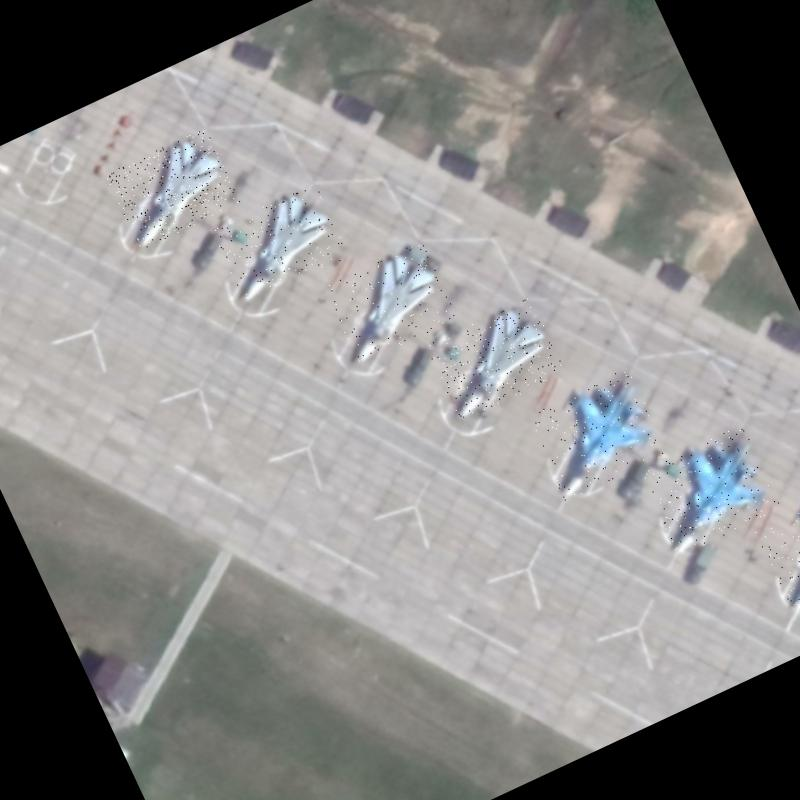A19: (525, 366, 669, 501), (637, 424, 781, 557), (755, 483, 800, 615)
A20: (425, 296, 566, 422), (321, 240, 458, 366), (104, 126, 242, 250), (210, 182, 349, 304)
